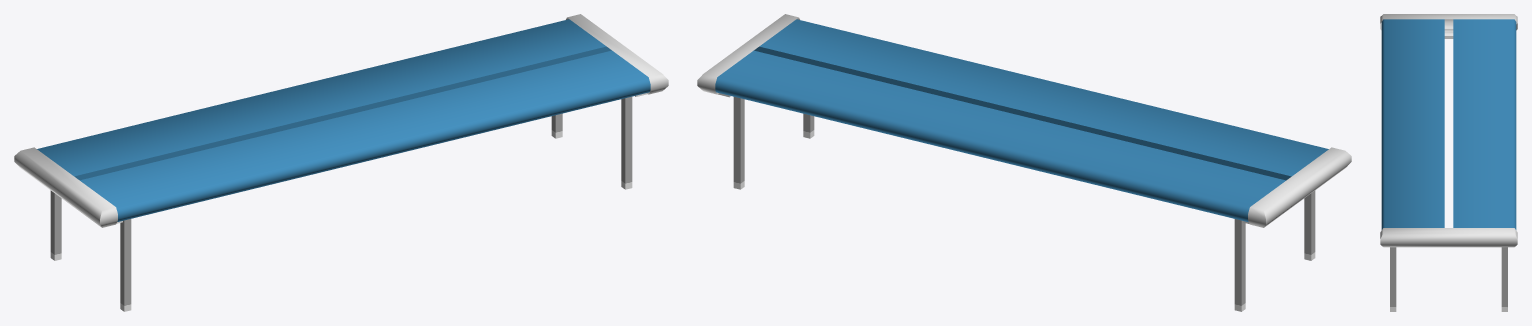
The model's file is bench.fbx.
3 renders of one model, left to right at view 1: azimuth 30°, elevation 25°; view 2: azimuth 150°, elevation 25°; view 3: azimuth 270°, elevation 25°, orthographic. The views are drawn at different scales.
Visible parts, largest first — view 1: polymsh5; view 2: polymsh5; view 3: polymsh5.
Part boxes in pixels (x1,y1,x2,y2): polymsh5: (14,14,668,311); polymsh5: (697,14,1351,311); polymsh5: (1380,14,1517,311).
Bounding box in the file's own units: 164 × 30.5 × 42.79.
